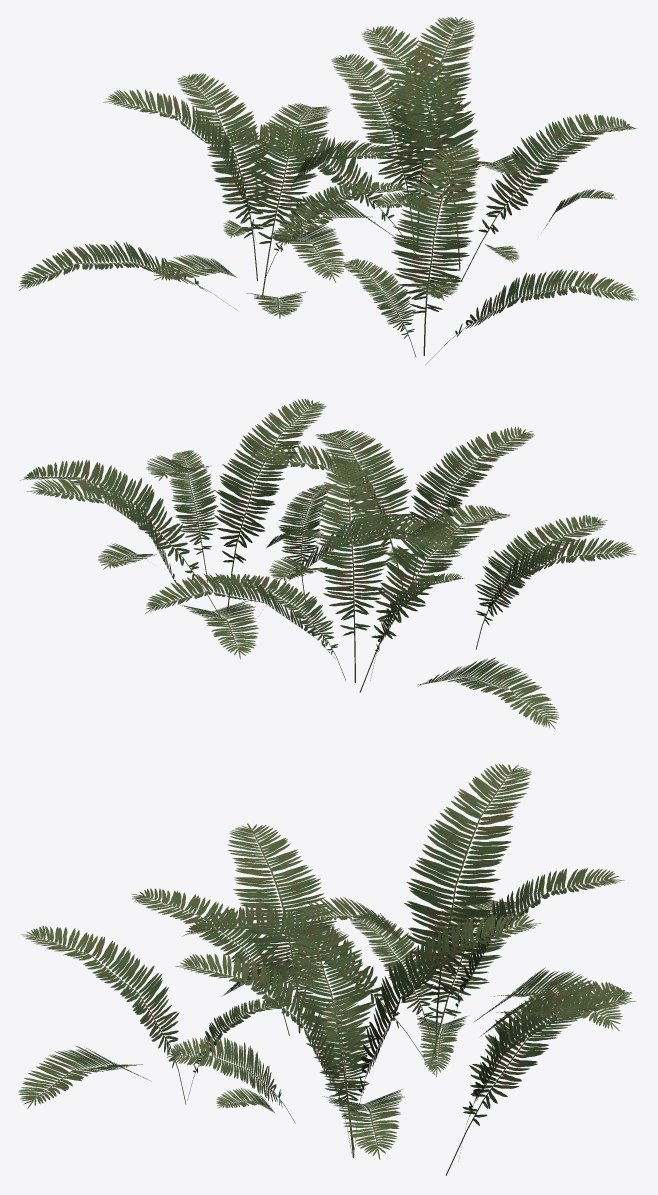
The model's file is SM_LV_Soul_Foliage021SM.d988e443.glb.
3 renders of one model, top to bottom at view 1: azimuth 30°, elevation 25°; view 2: azimuth 150°, elevation 25°; view 3: azimuth 270°, elevation 25°, orthographic. The views are drawn at different scales.
Visible parts, largest first — view 1: SM_LV_Soul_Foliage021SM; view 2: SM_LV_Soul_Foliage021SM; view 3: SM_LV_Soul_Foliage021SM.
Boxes of the visible parts, x1,y1,x2,y2 form: SM_LV_Soul_Foliage021SM: [19, 17, 638, 364]; SM_LV_Soul_Foliage021SM: [20, 399, 636, 729]; SM_LV_Soul_Foliage021SM: [18, 763, 636, 1175].
Size of the model in its own units: 1.94 by 0.684 by 1.55.
1 material, 1 textured.
